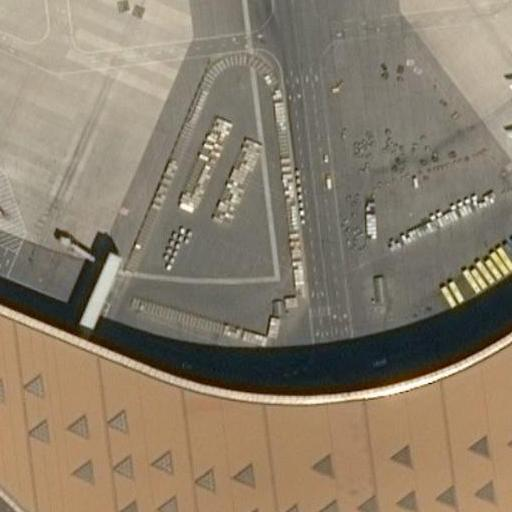Aircraft: (494, 44, 512, 158)
